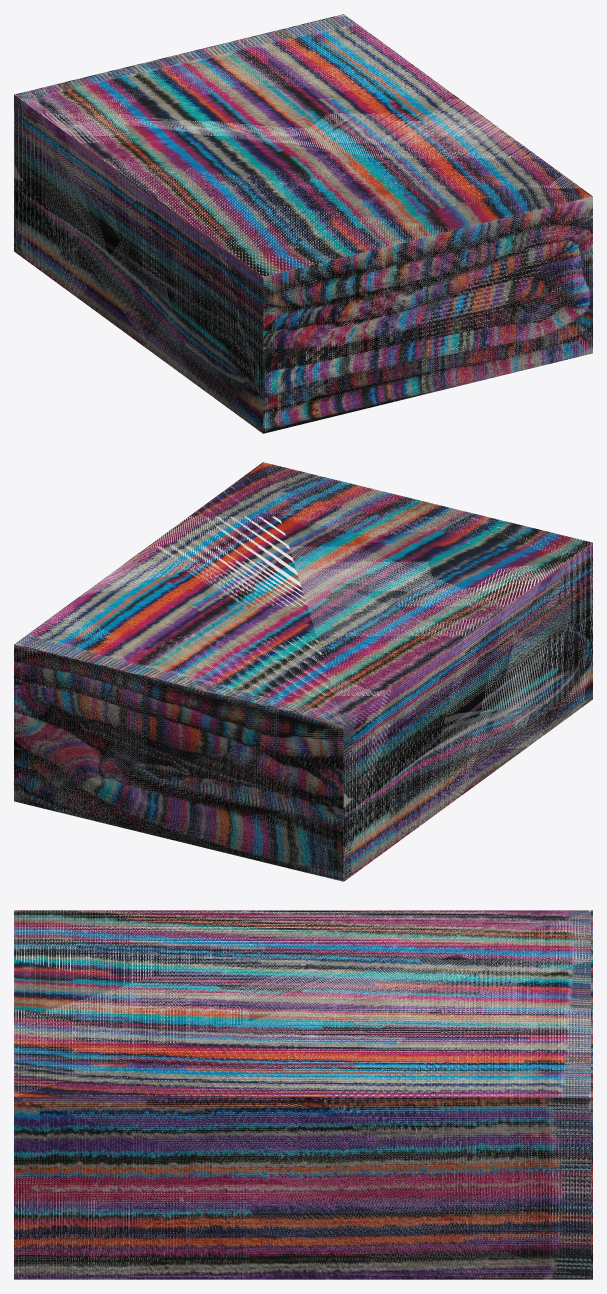
The model's file is blanket_colored.dae.
3 renders of one model, top to bottom at view 1: azimuth 30°, elevation 25°; view 2: azimuth 150°, elevation 25°; view 3: azimuth 270°, elevation 25°, orthographic. The views are drawn at different scales.
Parts seen in each view (by area): view 1: SketchUp (×3); view 2: SketchUp (×3); view 3: SketchUp (×2).
Boxes of the visible parts, box(x1,y1,x2,y2) form: SketchUp (×3): box(14, 14, 592, 433); SketchUp (×3): box(14, 462, 592, 881); SketchUp (×2): box(14, 910, 592, 1279).
Bounding box in the file's own units: 0.2213 × 0.2895 × 0.1006.
Materials: 6 (5 with a texture image).
